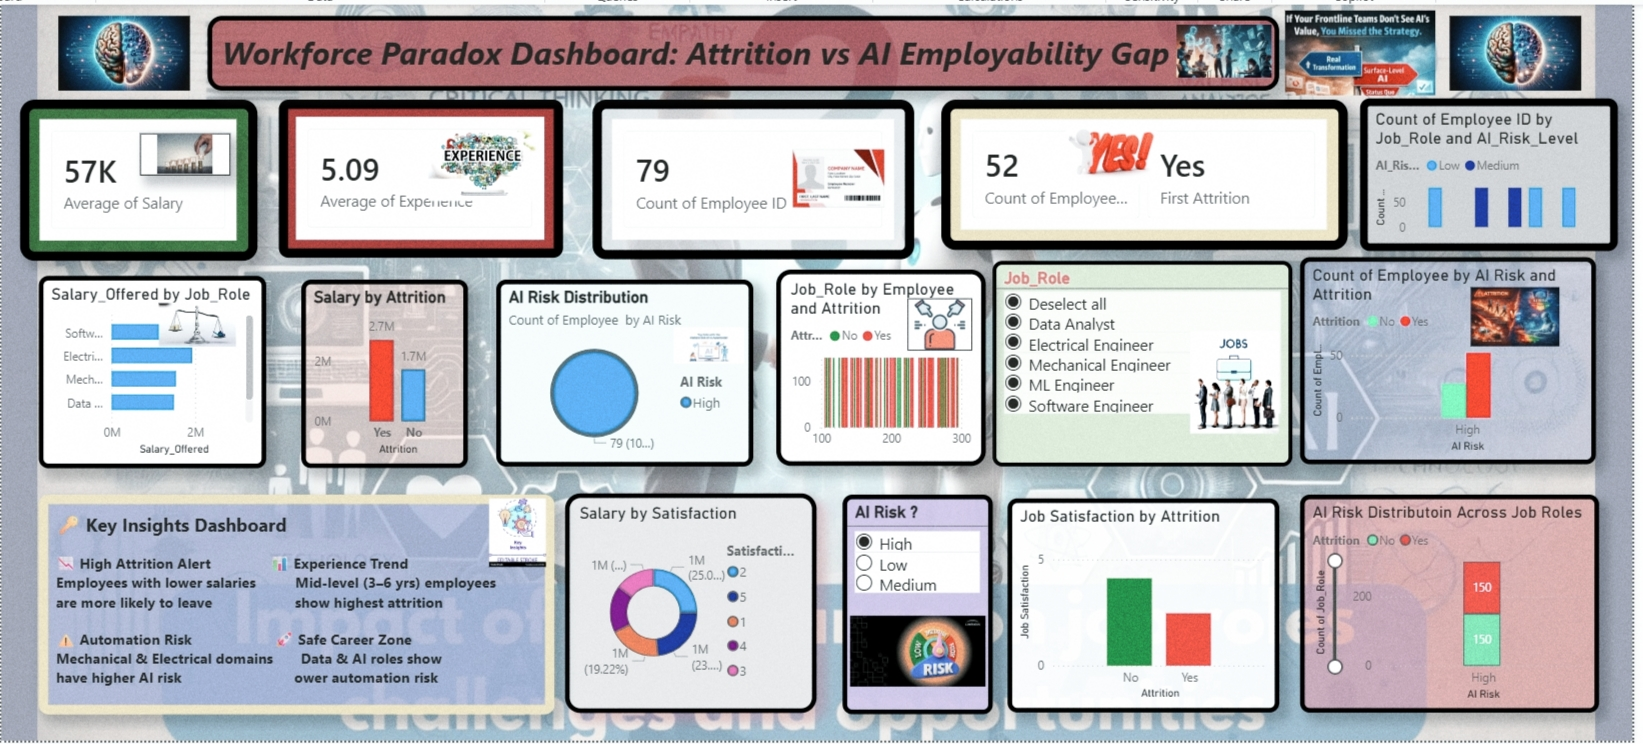

The dashboard page shown, as its layout file describes it:
{"tool":"powerbi","page":{"name":"Page 1","canvas":[1675,756],"ordinal":0},"visuals":[{"type":"cardVisual","fields":{"Data":["Avg(workforce_db employee_data.Salary)"]},"box":[19.1,97.3,244,165.9],"z":0},{"type":"cardVisual","fields":{"Data":["Avg(workforce_db employee_data.Experience)"]},"box":[285.5,97.3,291.8,162.7],"z":1000},{"type":"cardVisual","fields":{"Data":["CountNonNull(workforce_db employee_data.Employee ID)"]},"box":[607.6,97.3,330.1,164.3],"z":2000},{"type":"cardVisual","fields":{"Data":["Count(workforce_db employee_data.Employee ID)","Min(workforce_db employee_data.Attrition)"]},"box":[965,98.2,418,154.3],"z":3000},{"type":"clusteredBarChart","fields":{"Y":["Sum(workforce_db job_data.Salary_Offered)"],"Category":["workforce_db job_data.Job_Role"]},"box":[38.7,279.2,233.6,197.6],"z":4000},{"type":"pieChart","title":"AI Risk Distribution","fields":{"Category":["workforce_db employee_data.AI Risk"],"Y":["CountNonNull(workforce_db employee_data.Employee ID)"]},"box":[508.6,281.9,264,192.1],"z":5000},{"type":"clusteredColumnChart","fields":{"Category":["workforce_db employee_data.Attrition"],"Y":["Sum(workforce_db employee_data.Salary)"]},"box":[308.2,281.9,171.4,193.5],"z":6000},{"type":"donutChart","fields":{"Y":["Sum(workforce_db employee_data.Salary)"],"Category":["workforce_db employee_data.Job Satisfaction","workforce_db employee_data.Experience"]},"box":[579.1,501.7,258.4,225.3],"z":7000},{"type":"listSlicer","fields":{"Values":["workforce_db job_data.Job_Role"]},"box":[1018.5,262.6,308.2,211.4],"z":8000},{"type":"listSlicer","fields":{"Values":["workforce_db employee_data.AI Risk"]},"box":[863.8,503.1,154.8,225.3],"z":9000},{"type":"image","box":[1221.7,323.4,91.2,128.5],"z":10000},{"type":"image","box":[161.6,291,78.9,75.2],"z":11000},{"type":"image","box":[691,327.5,71.9,45.6],"z":12000},{"type":"image","box":[141.9,132.4,92.5,43.1],"z":13000},{"type":"image","box":[421.8,128.3,146.8,74],"z":14000},{"type":"image","box":[812.6,124.1,94.1,107.7],"z":15000},{"type":"image","box":[1090.7,121.6,101.3,63.3],"z":16000},{"type":"textbox","box":[38.7,503.1,529.3,225.3],"z":17000},{"type":"lineStackedColumnComboChart","fields":{"Category":["workforce_db employee_data.Attrition"],"Y":["Avg(workforce_db employee_data.Job Satisfaction)"]},"box":[1033.7,507.2,279.2,219.7],"z":18000},{"type":"image","box":[872.1,624.7,139.6,77.4],"z":19000},{"type":"image","box":[493.4,507.2,74.6,70.5],"z":20000},{"type":"textbox","box":[211.8,11.2,1101.1,77.1],"z":21000},{"type":"image","box":[1192.2,21,126.2,54.7],"z":22000},{"type":"columnChart","fields":{"Series":["workforce_db employee_data.Attrition"],"Category":["workforce_db employee_data.Employee ID"],"Y":["CountNonNull(workforce_db job_data.Job_Role)"]},"box":[796,272.3,215.6,201.8],"z":23000},{"type":"clusteredColumnChart","fields":{"Y":["CountNonNull(workforce_db employee_data.Employee ID)"],"Series":["workforce_db employee_data.Attrition"],"Category":["workforce_db employee_data.AI Risk"]},"box":[1333.6,259.8,304,212.8],"z":24000},{"type":"columnChart","title":"AI Risk Distributoin Across Job Roles","fields":{"Series":["workforce_db employee_data.Attrition"],"Category":["workforce_db employee_data.AI Risk"],"Y":["CountNonNull(workforce_db job_data.Job_Role)"]},"box":[1333.6,503.1,306.8,223.9],"z":25000},{"type":"clusteredColumnChart","fields":{"Y":["CountNonNull(workforce_db employee_data.Employee ID)"],"Category":["workforce_db job_data.Job_Role"],"Series":["workforce_db job_data.AI_Risk_Level"]},"box":[1395.6,96.8,265.1,157.1],"z":26000},{"type":"image","box":[931.5,301.3,66.3,53.9],"z":27000},{"type":"image","box":[1506.4,290.2,98.1,60.8],"z":28000},{"type":"image","box":[1444.7,11.2,221.6,77.1],"z":28001},{"type":"image","box":[15.4,11.2,221.6,77.1],"z":28002},{"type":"image","box":[1318.5,5.6,154.3,88.4],"z":28003}]}

Visuals, with their boxes in screenshot pixels (x1, y1, x2, y2), scaled from the page's 1675x756 canvas onto the 1643x744 screenshot:
cardVisual - Avg(workforce_db employee_data.Salary): (19, 96, 258, 259)
cardVisual - Avg(workforce_db employee_data.Experience): (280, 96, 566, 256)
cardVisual - CountNonNull(workforce_db employee_data.Employee ID): (596, 96, 920, 257)
cardVisual - Count(workforce_db employee_data.Employee ID) x Min(workforce_db employee_data.Attrition): (947, 97, 1357, 248)
clusteredBarChart - Sum(workforce_db job_data.Salary_Offered) x workforce_db job_data.Job_Role: (38, 275, 267, 469)
"AI Risk Distribution" pieChart: (499, 277, 758, 466)
clusteredColumnChart - workforce_db employee_data.Attrition x Sum(workforce_db employee_data.Salary): (302, 277, 470, 468)
donutChart - Sum(workforce_db employee_data.Salary) x workforce_db employee_data.Job Satisfaction: (568, 494, 822, 715)
listSlicer - workforce_db job_data.Job_Role: (999, 258, 1301, 466)
listSlicer - workforce_db employee_data.AI Risk: (847, 495, 999, 717)
image: (1198, 318, 1288, 445)
image: (159, 286, 236, 360)
image: (678, 322, 748, 367)
image: (139, 130, 230, 173)
image: (414, 126, 558, 199)
image: (797, 122, 889, 228)
image: (1070, 120, 1169, 182)
textbox: (38, 495, 557, 717)
lineStackedColumnComboChart - workforce_db employee_data.Attrition x Avg(workforce_db employee_data.Job Satisfaction): (1014, 499, 1288, 715)
image: (855, 615, 992, 691)
image: (484, 499, 557, 569)
textbox: (208, 11, 1288, 87)
image: (1169, 21, 1293, 74)
columnChart - workforce_db employee_data.Attrition x workforce_db employee_data.Employee ID: (781, 268, 992, 467)
clusteredColumnChart - CountNonNull(workforce_db employee_data.Employee ID) x workforce_db employee_data.Attrition: (1308, 256, 1606, 465)
"AI Risk Distributoin Across Job Roles" columnChart: (1308, 495, 1609, 715)
clusteredColumnChart - CountNonNull(workforce_db employee_data.Employee ID) x workforce_db job_data.Job_Role: (1369, 95, 1629, 250)
image: (914, 297, 979, 350)
image: (1478, 286, 1574, 345)
image: (1417, 11, 1634, 87)
image: (15, 11, 232, 87)
image: (1293, 6, 1445, 93)
